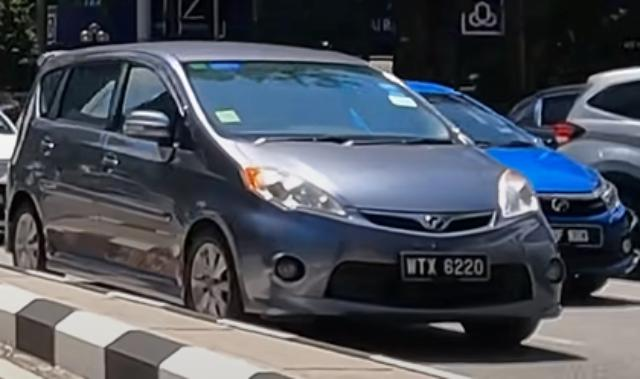License_Plate: (399, 251, 491, 283)
car: (1, 40, 567, 347)
